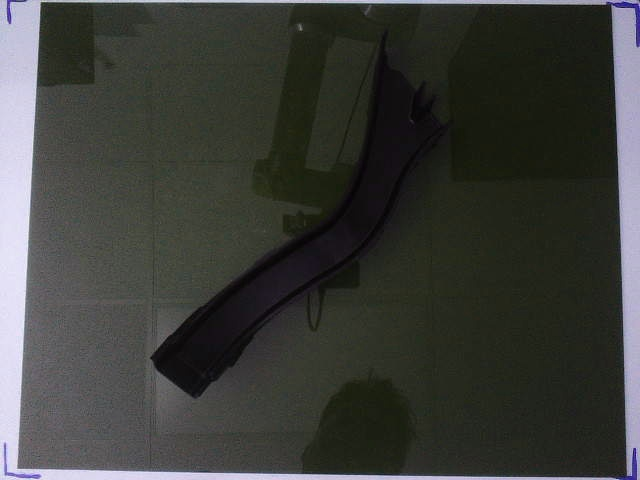887_B-Under: (153, 34, 451, 396)
